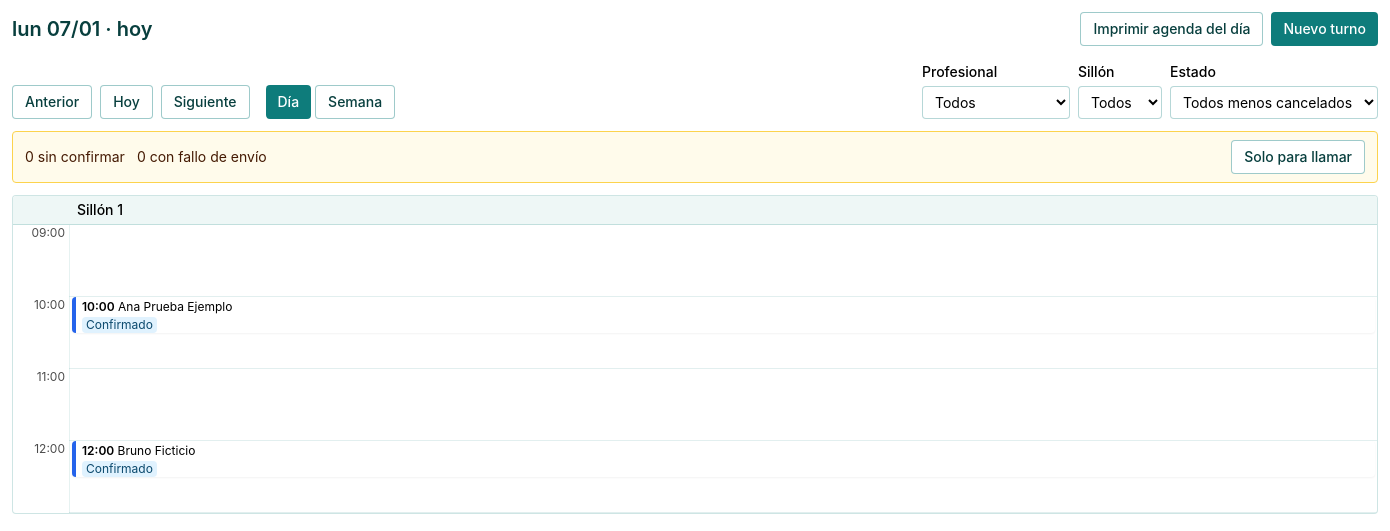
Test: AgendaPage › filtra por profesional
Expected: the button "12:00 Bruno Ficticio Confirmado" is shown, [72,441,1375,477]
Select "Dr. Ficticio Dos" in the dropdown labelled "Profesional". click: (996, 102)
box: [922,86,1070,119]
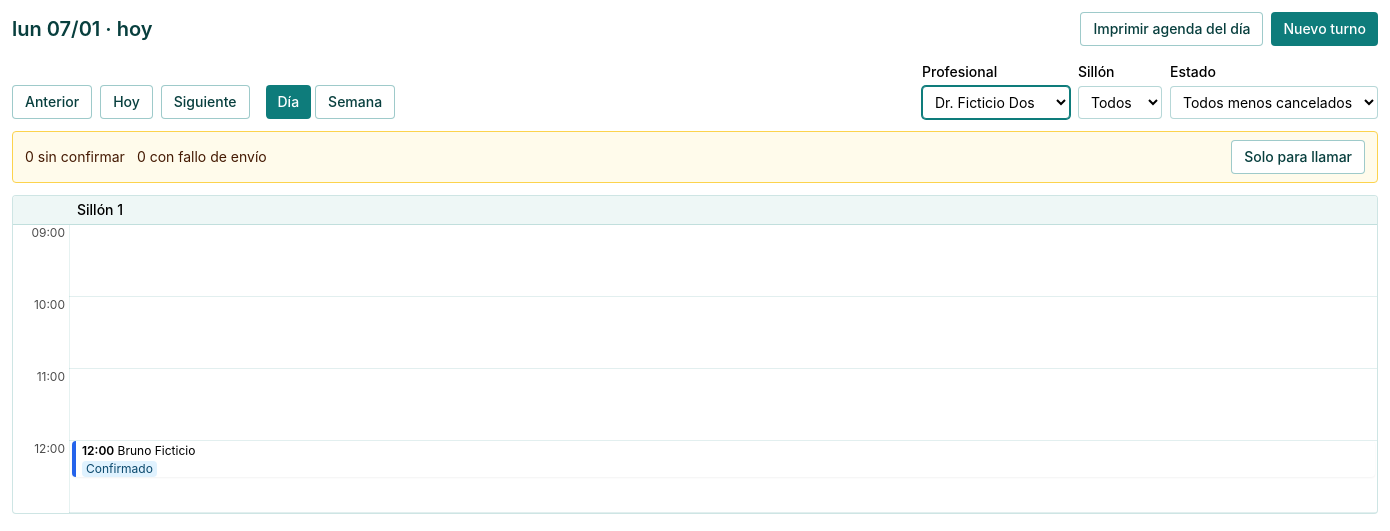
Expected: the button "12:00 Bruno Ficticio Confirmado" is shown, [72,441,1375,477]
Expected: the button "Ana Prueba Ejemplo" is gone
